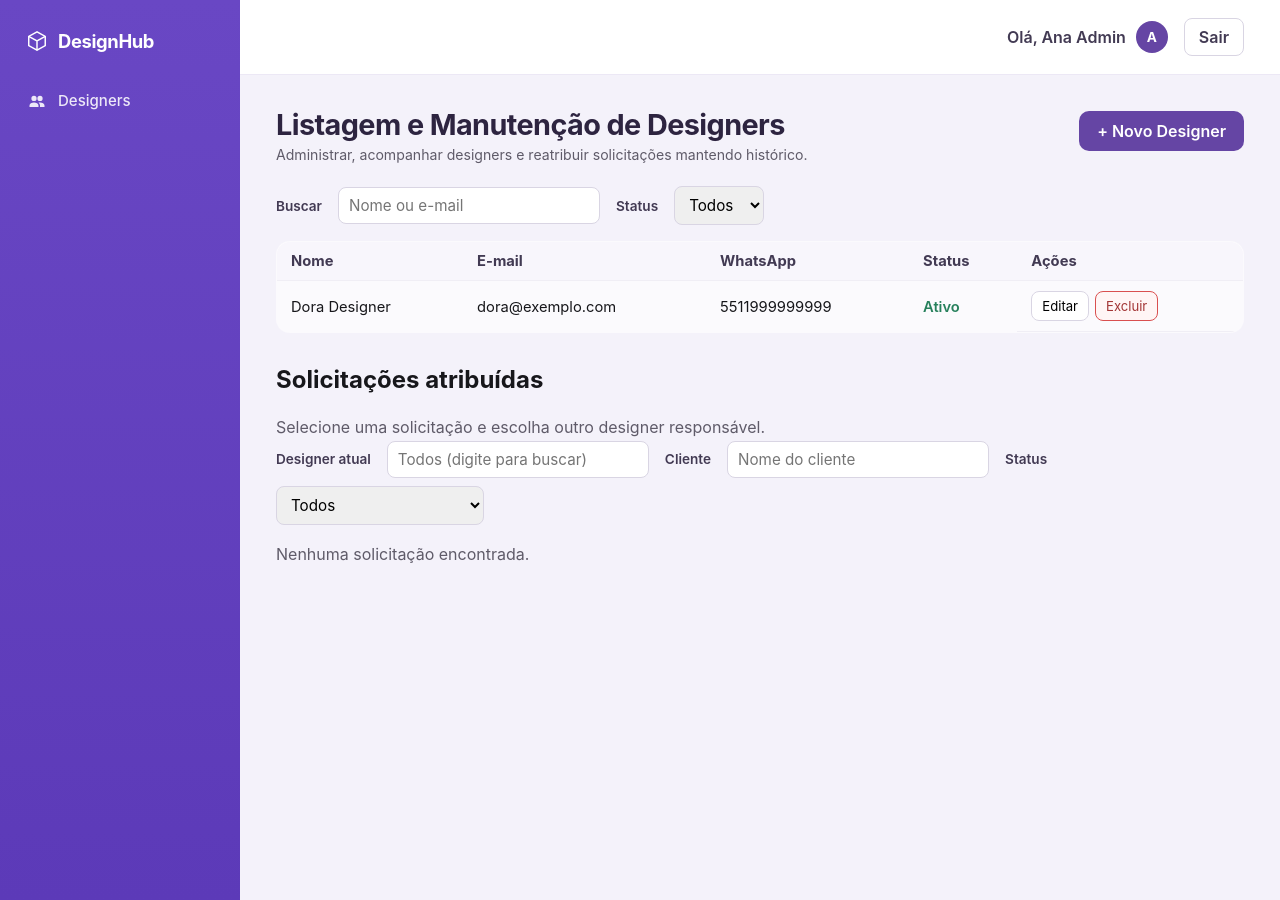
Test: DesignersPage (RF001/RF015) › Excluir exige confirmação inline e, por trás, inativa (não apaga) o designer
Expected: the cell "Dora Designer" is shown, [276, 281, 463, 333]
Click the button "Excluir".
click(1127, 306)  # box [1095, 291, 1158, 321]
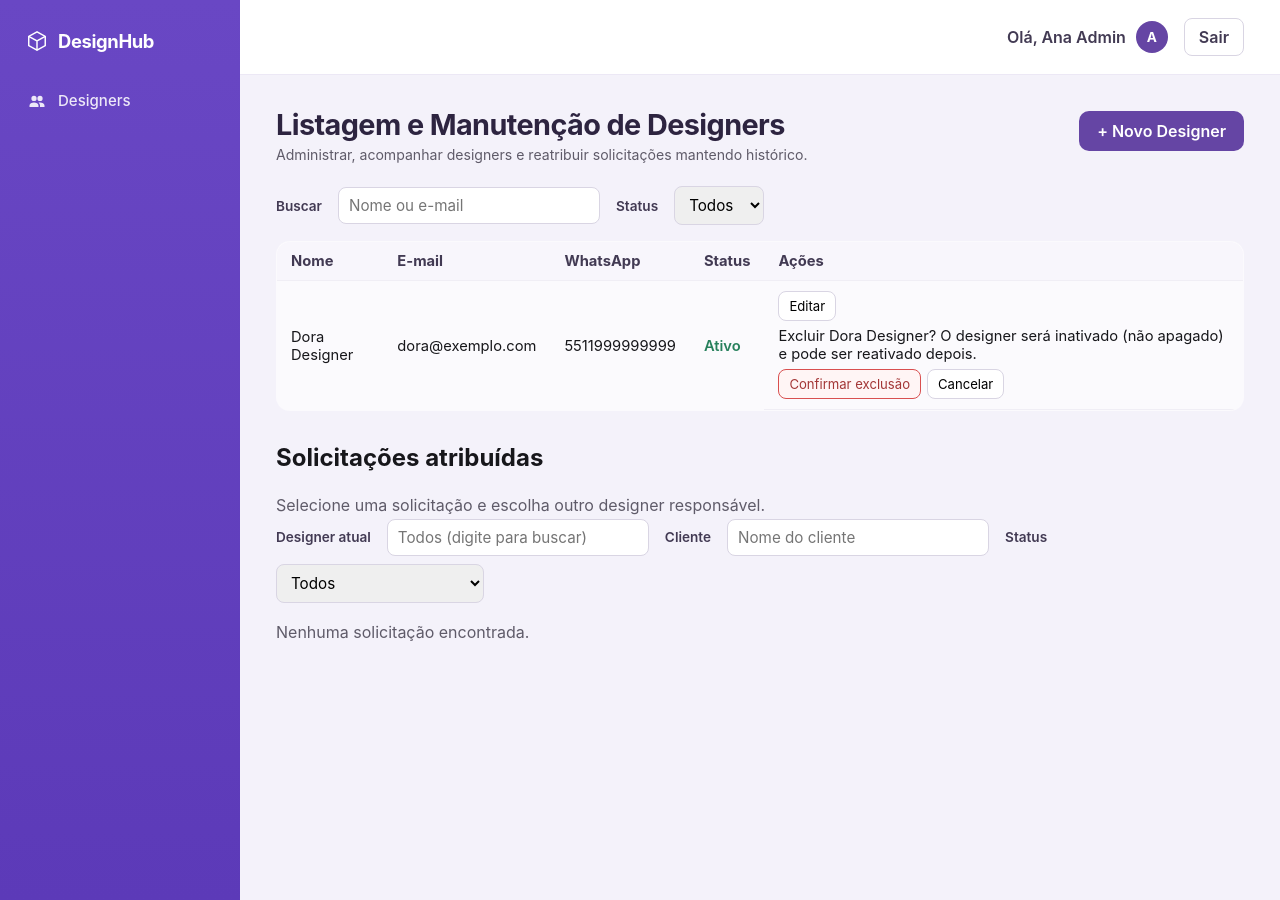
Now the text "será inativado (não apagado)" is shown, box [778, 327, 1224, 363]
Click the button "Confirmar exclusão".
click(850, 384)  # box [778, 369, 921, 399]
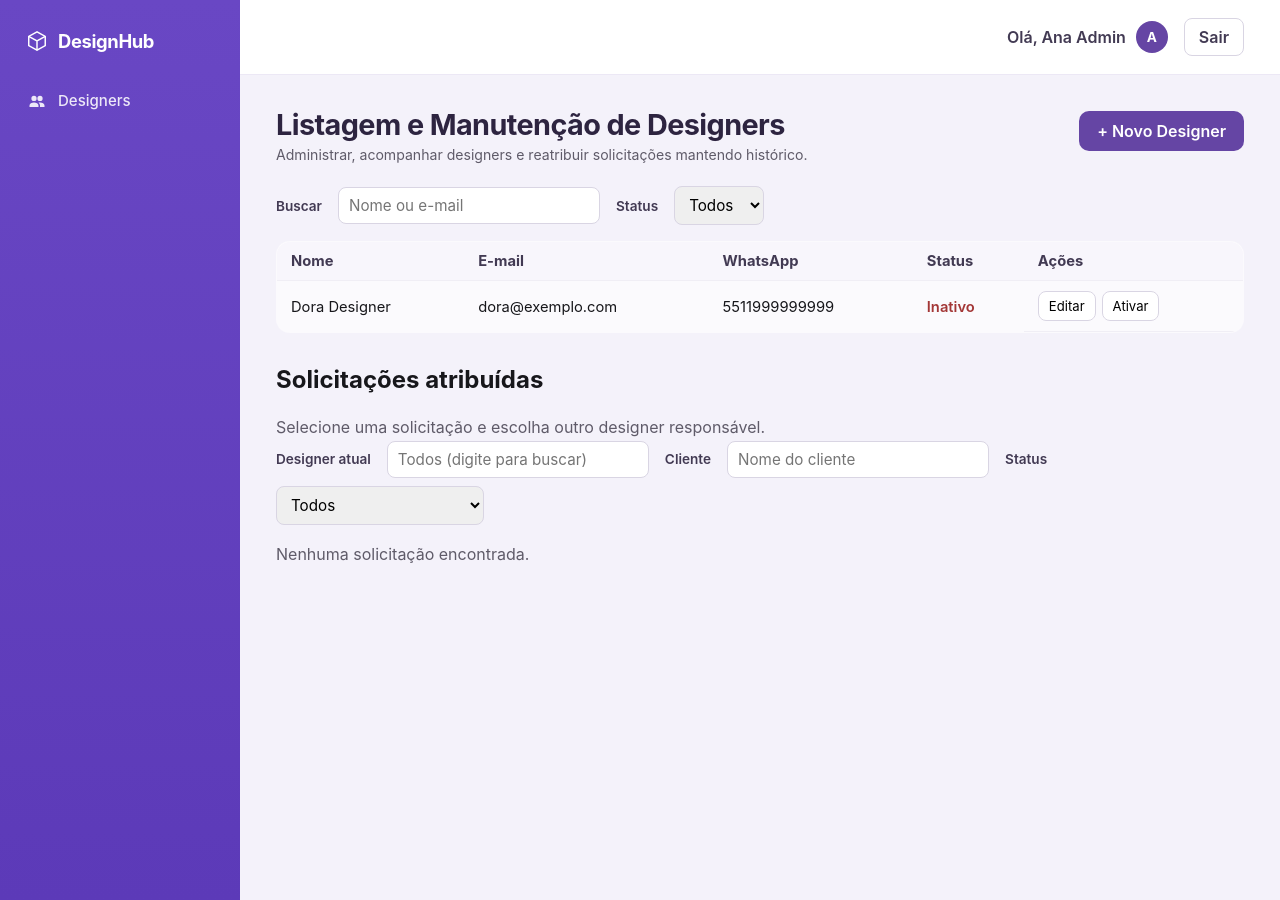
Now the button "Ativar" is shown, box [1102, 291, 1160, 321]
